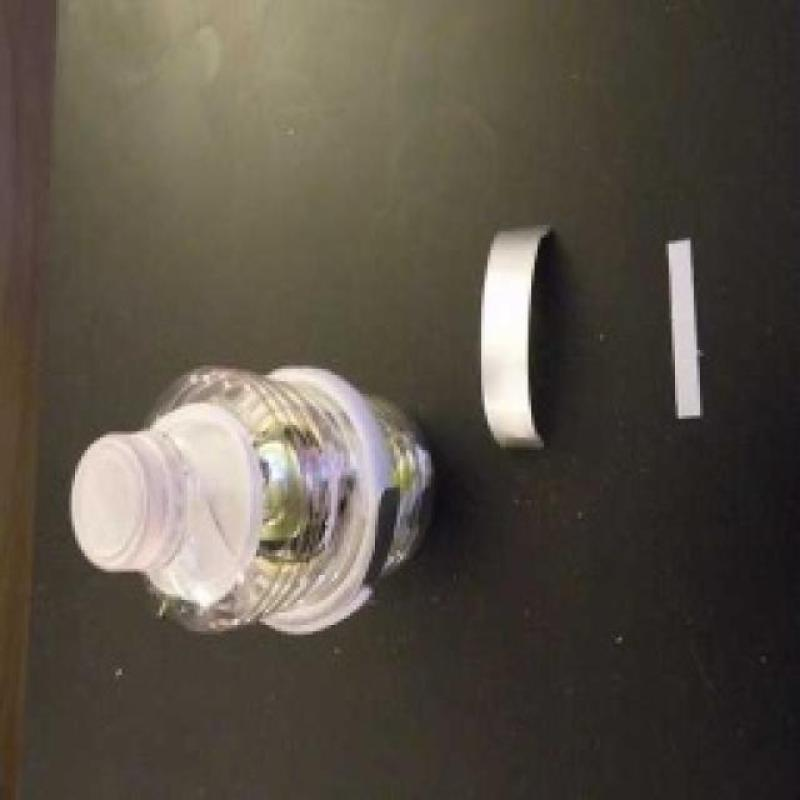botella: (63, 364, 438, 643)
